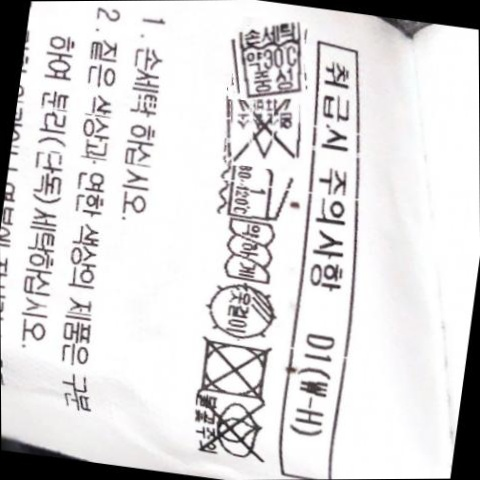DN_tumble_dry: (191, 336, 275, 400)
hand_wash: (231, 25, 309, 95)
iron_low: (222, 163, 290, 222)
line_dry_in_shade: (202, 283, 282, 339)
wring: (221, 219, 276, 285)
